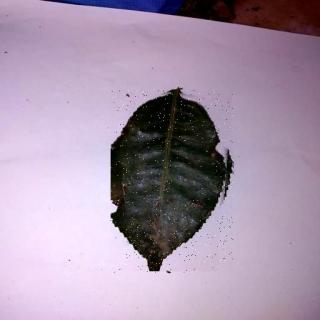Anthracnose: (112, 91, 235, 274)
